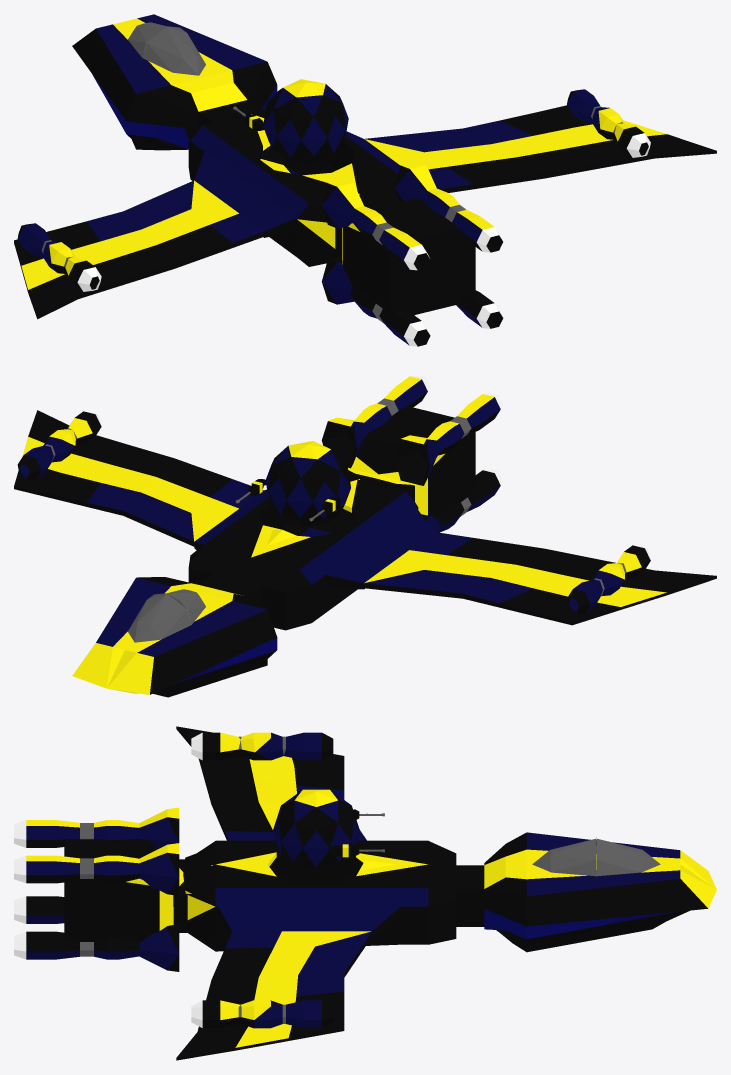
The model's file is Ship1.glb.
3 renders of one model, top to bottom at view 1: azimuth 30°, elevation 25°; view 2: azimuth 150°, elevation 25°; view 3: azimuth 270°, elevation 25°, orthographic.
Parts seen in each view (by area): view 1: Main wing, Structure, Main Body, Cylinder.001, Cube, Turret Body, Cylinder, Wing connection, Glass, Cockpit Connection; view 2: Main wing, Main Body, Structure, Cylinder.001, Cube, Turret Body, Cylinder, Wing connection, Glass, Cockpit Connection; view 3: Main wing, Main Body, Structure, Cylinder.001, Cube, Cylinder, Turret Body, Wing connection, Glass, Cockpit Connection, Engine Connection..
Boxes of the visible parts, <box> form: Main wing: <box>14,105,716,319</box>; Structure: <box>72,14,277,150</box>; Main Body: <box>188,109,398,266</box>; Cylinder.001: <box>321,160,503,346</box>; Cube: <box>342,198,475,315</box>; Turret Body: <box>263,79,348,165</box>; Cylinder: <box>17,89,650,291</box>; Wing connection: <box>194,131,400,237</box>; Glass: <box>128,22,205,75</box>; Cockpit Connection: <box>198,100,260,125</box>; Main wing: <box>14,410,716,625</box>; Main Body: <box>188,472,418,630</box>; Structure: <box>72,577,277,697</box>; Cylinder.001: <box>321,375,503,532</box>; Cube: <box>348,406,475,519</box>; Turret Body: <box>266,441,350,527</box>; Cylinder: <box>17,411,650,613</box>; Wing connection: <box>194,489,433,589</box>; Glass: <box>128,589,205,642</box>; Cockpit Connection: <box>199,574,261,601</box>; Main wing: <box>176,726,372,1060</box>; Main Body: <box>183,840,456,951</box>; Structure: <box>484,832,716,952</box>; Cylinder.001: <box>14,807,179,971</box>; Cube: <box>64,839,183,942</box>; Cylinder: <box>191,732,333,1028</box>; Turret Body: <box>272,789,359,872</box>; Wing connection: <box>218,906,400,937</box>; Glass: <box>532,837,660,876</box>; Cockpit Connection: <box>456,865,484,926</box>; Engine Connection.: <box>173,859,187,932</box>.
Bounding box in the file's own units: 4.5 × 0.9914 × 4.03.
1 material, 1 textured.
